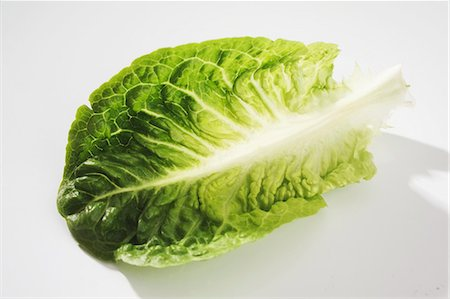lettuce: (58, 23, 412, 275)
